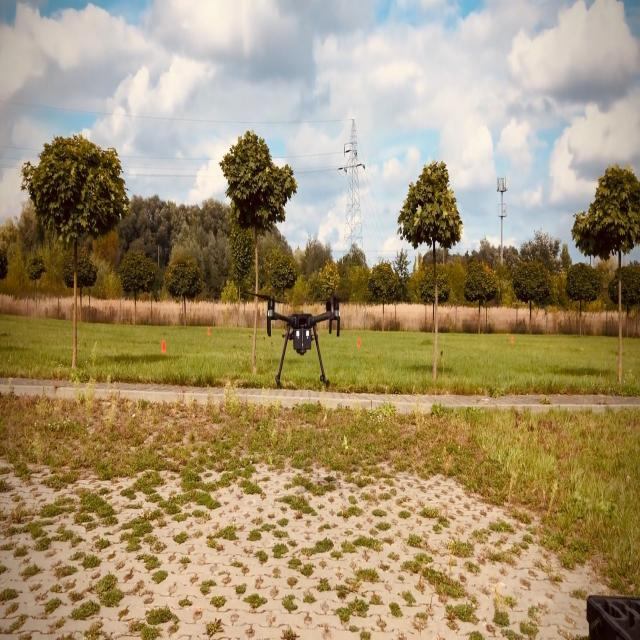drone: (246, 290, 342, 389)
